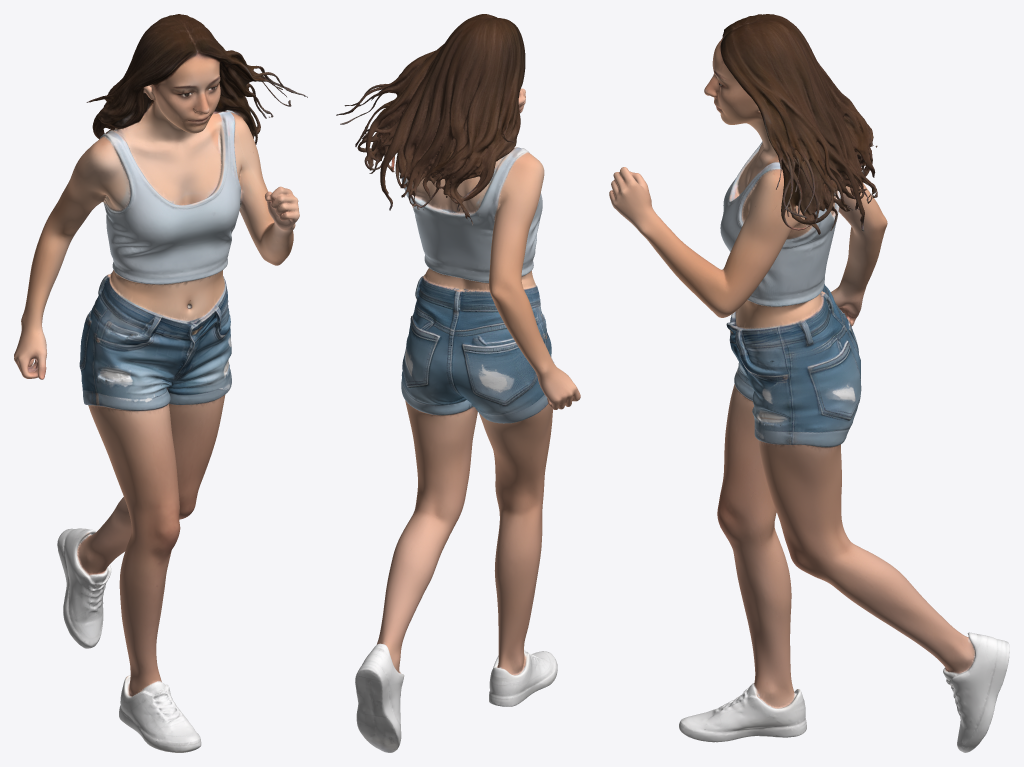
File: Meshy_AI_Casual_Summer_Street__0421162005_texture.fbx
The picture shows the model from 3 angles, left to right: view 1: azimuth 30°, elevation 25°; view 2: azimuth 150°, elevation 25°; view 3: azimuth 270°, elevation 25°; orthographic projection. The views are drawn at different scales.
Parts seen in each view (by area): view 1: Mesh_0; view 2: Mesh_0; view 3: Mesh_0.
Boxes of the visible parts, left/top/right/bottom form: Mesh_0: left=14, top=14, right=307, bottom=752; Mesh_0: left=336, top=14, right=580, bottom=752; Mesh_0: left=609, top=14, right=1009, bottom=752.
Size of the model in its own units: 398 by 1000 by 497.
1 material, 1 textured.
